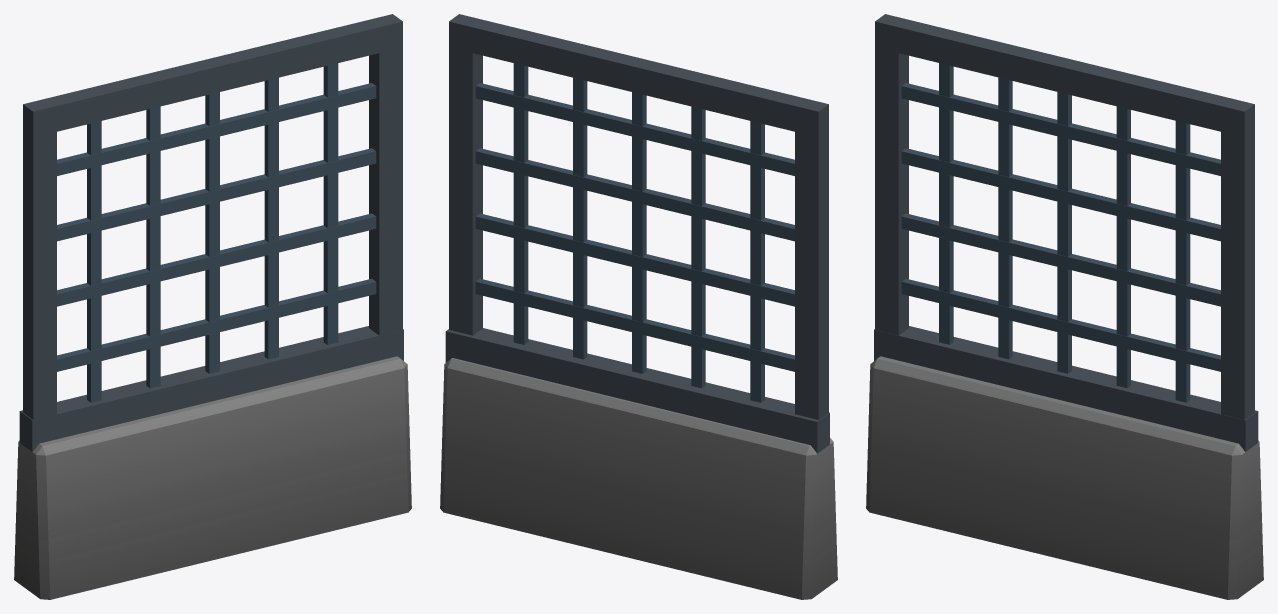
File: Fence_1_H_5.fbx
3 renders of one model, left to right at view 1: azimuth 30°, elevation 25°; view 2: azimuth 150°, elevation 25°; view 3: azimuth 330°, elevation 25°, orthographic.
Visible parts, largest first — view 1: Fence_1_H_5; view 2: Fence_1_H_5; view 3: Fence_1_H_5.
Boxes of the visible parts, x1,y1,x2,y2 form: Fence_1_H_5: [14, 14, 411, 599]; Fence_1_H_5: [440, 14, 837, 599]; Fence_1_H_5: [866, 14, 1263, 599].
Bounding box in the file's own units: 200 × 248 × 30.52.
